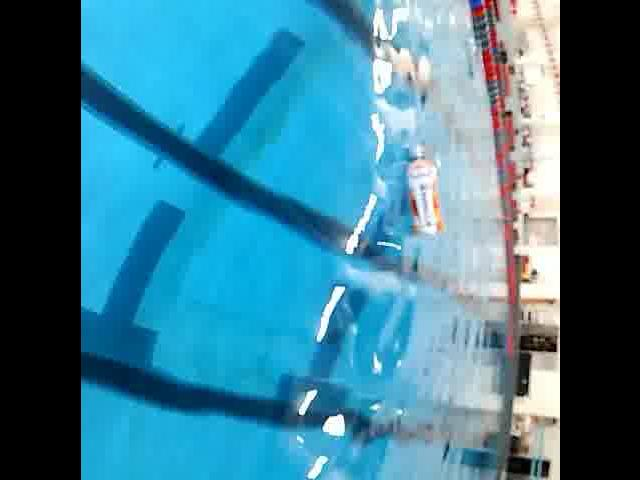Bottle: (400, 135, 448, 251)
